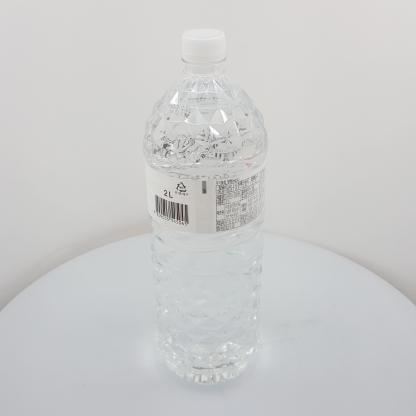--------------: (142, 28, 268, 384)
